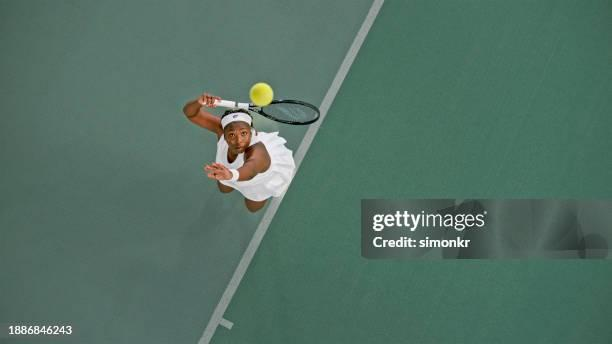ball_tennis: (250, 81, 275, 106)
